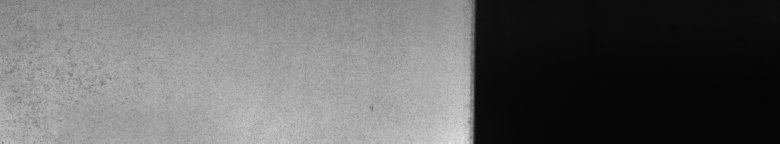ib: (5, 57, 112, 127)
